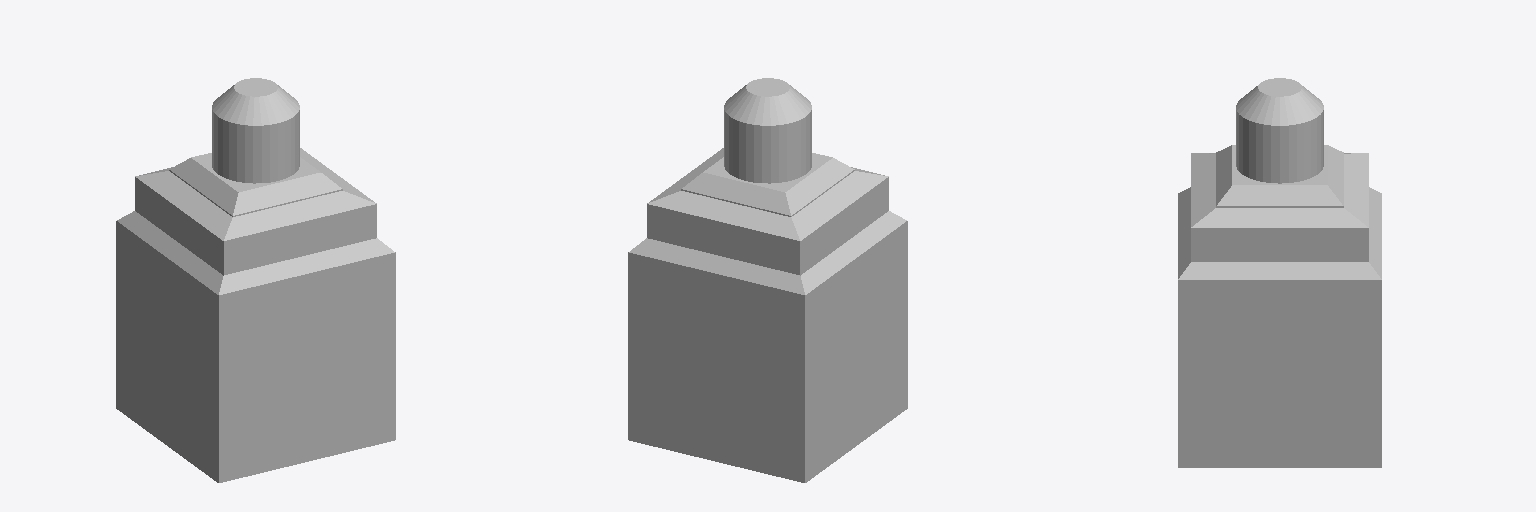
File: castle.obj
3 renders of one model, left to right at view 1: azimuth 30°, elevation 25°; view 2: azimuth 150°, elevation 25°; view 3: azimuth 270°, elevation 25°, orthographic.
Parts seen in each view (by area): view 1: Cube; view 2: Cube; view 3: Cube.
Boxes of the visible parts, x1,y1,x2,y2 form: Cube: [116, 78, 395, 482]; Cube: [628, 78, 907, 482]; Cube: [1178, 78, 1381, 467].
Size of the model in its own units: 2 by 3.64 by 2.